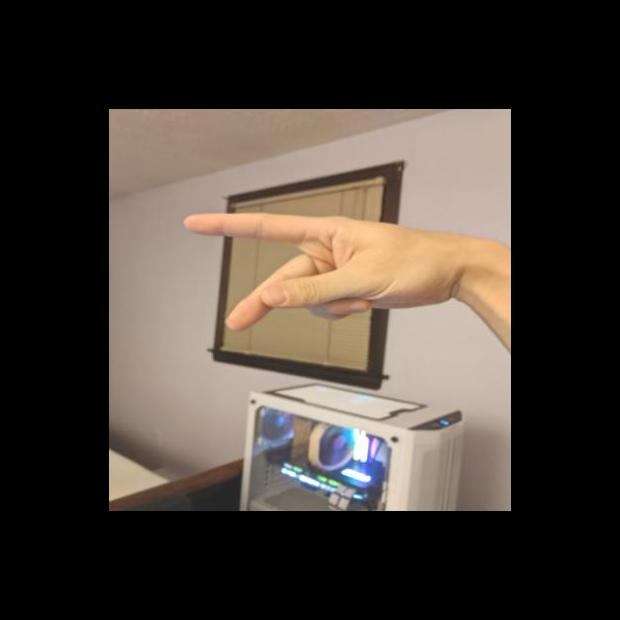O: (179, 204, 470, 338)
